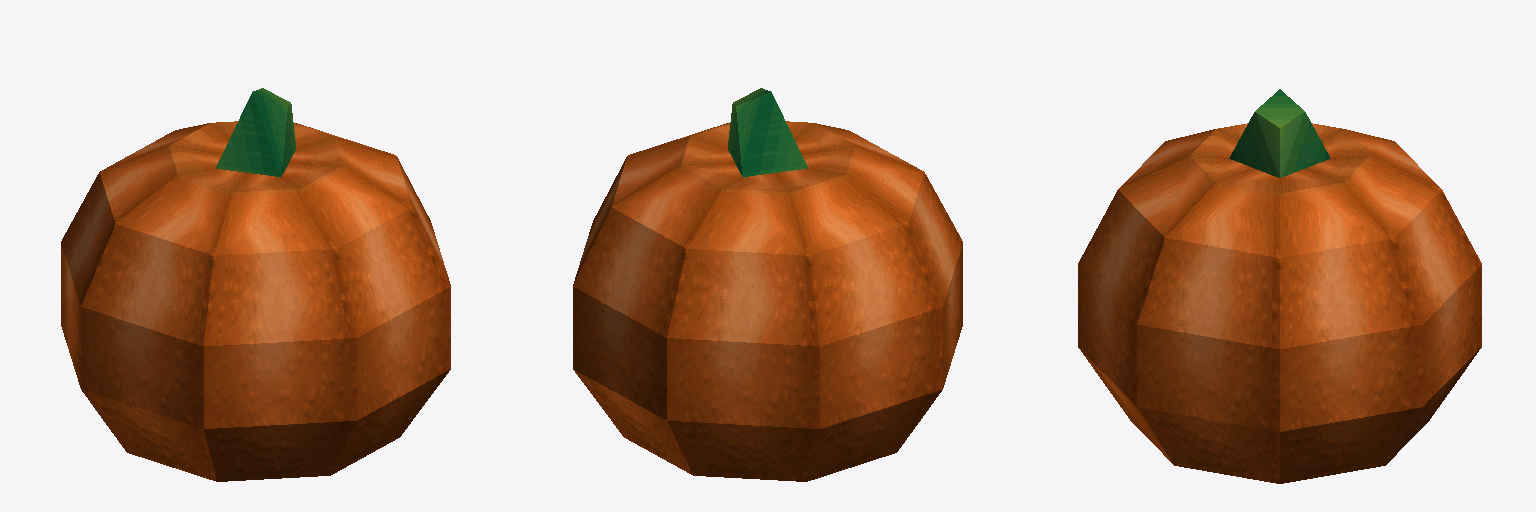
The picture shows the model from 3 angles: view 1: azimuth 30°, elevation 25°; view 2: azimuth 150°, elevation 25°; view 3: azimuth 270°, elevation 25°; orthographic projection.
Visible parts, largest first — view 1: material_0; view 2: material_0; view 3: material_0.
Part boxes in pixels (left/top/right/bottom): material_0: left=61, top=88, right=450, bottom=481; material_0: left=573, top=88, right=962, bottom=481; material_0: left=1078, top=89, right=1481, bottom=483.
Size of the model in its own units: 10.48 by 9.45 by 10.48.
1 materials, 1 textured.